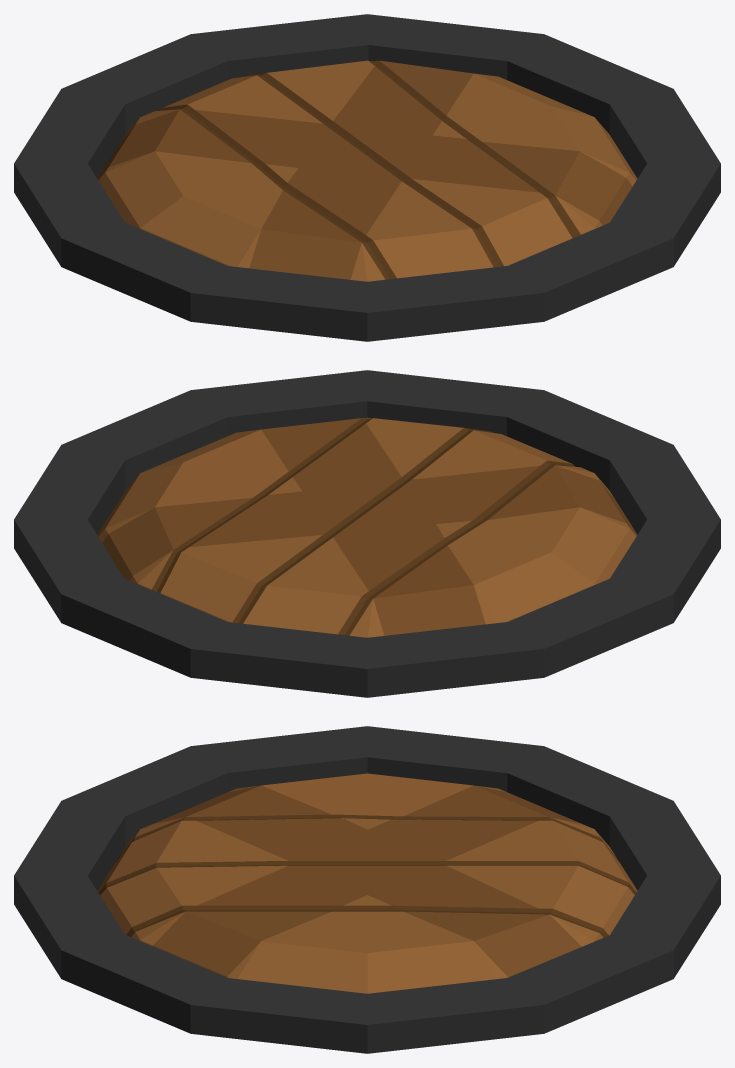
File: F_Shield_B_Wood.fbx
3 views of the same model, one above another, from view 1: azimuth 30°, elevation 25°; view 2: azimuth 150°, elevation 25°; view 3: azimuth 270°, elevation 25° (orthographic).
Visible parts, largest first — view 1: F_Shield_B_Wood; view 2: F_Shield_B_Wood; view 3: F_Shield_B_Wood.
Boxes of the visible parts, left/top/right/bottom form: F_Shield_B_Wood: left=14, top=14, right=720, bottom=341; F_Shield_B_Wood: left=14, top=370, right=720, bottom=697; F_Shield_B_Wood: left=14, top=726, right=720, bottom=1053.
Bounding box in the file's own units: 75.7 × 7.63 × 75.7.
